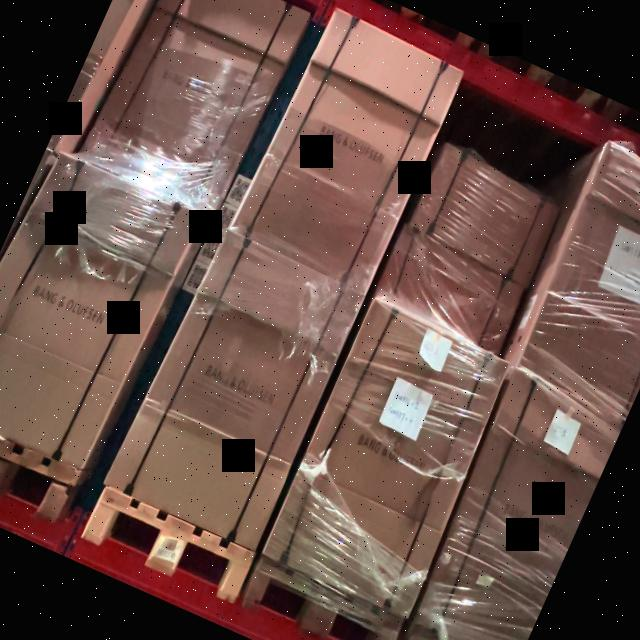box: (106, 232, 366, 546), (258, 304, 514, 620), (234, 8, 470, 292), (0, 149, 199, 470), (412, 379, 623, 640), (84, 0, 305, 211), (505, 145, 640, 422), (398, 134, 573, 300)
